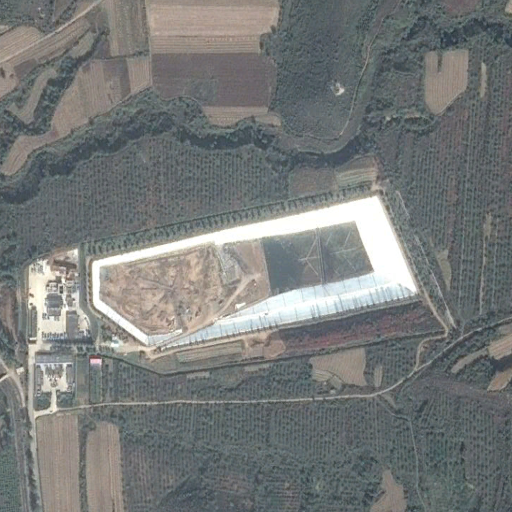lf: (91, 195, 421, 345)
